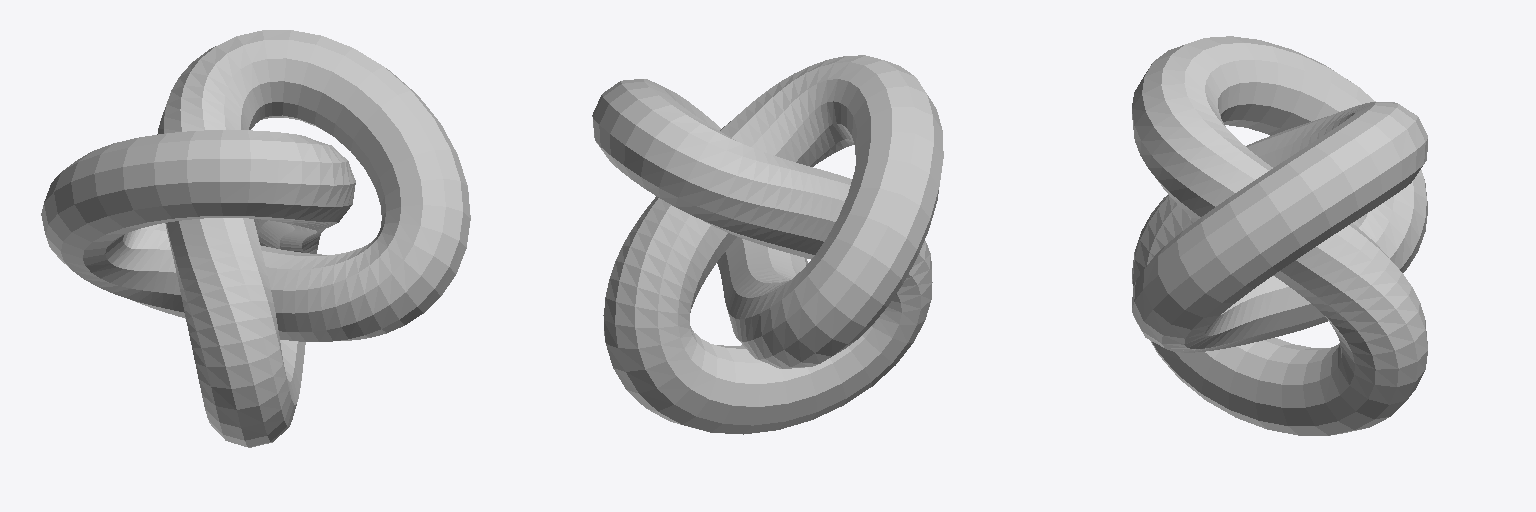
3 renders of one model, left to right at view 1: azimuth 30°, elevation 25°; view 2: azimuth 150°, elevation 25°; view 3: azimuth 270°, elevation 25°, orthographic.
Parts seen in each view (by area): view 1: Torus_Knot; view 2: Torus_Knot; view 3: Torus_Knot.
Part boxes in pixels (x1,y1,x2,y2): Torus_Knot: (41,30,470,447); Torus_Knot: (592,55,943,434); Torus_Knot: (1132,36,1427,435).
Bounding box in the file's own units: 1.08 × 1.02 × 0.7971.